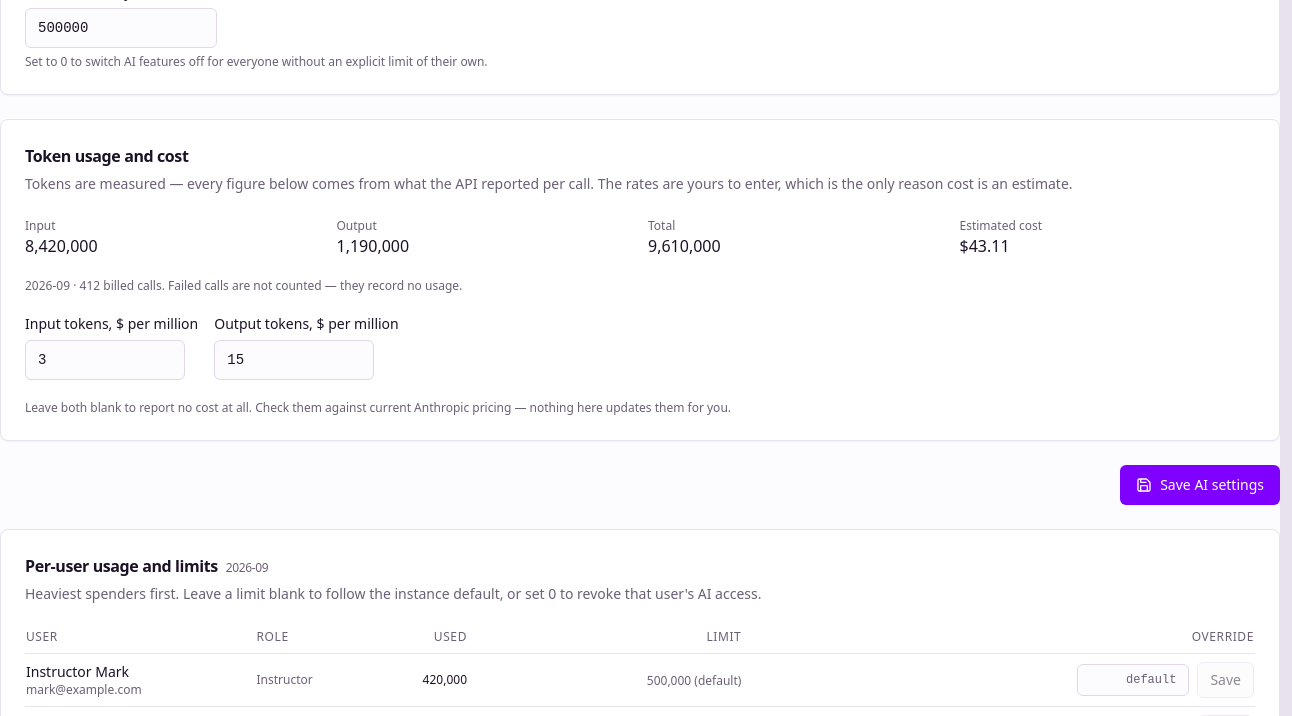
it: AiSettingsTab token usage and cost › rejects a non-numeric rate before sending it
This screenshot has width=1292, height=716.
(page scrolled)
Replace the text in the field labelled "Input tokens, $ per million" with "free" at coordinates (105, 360), box [25, 340, 185, 380]
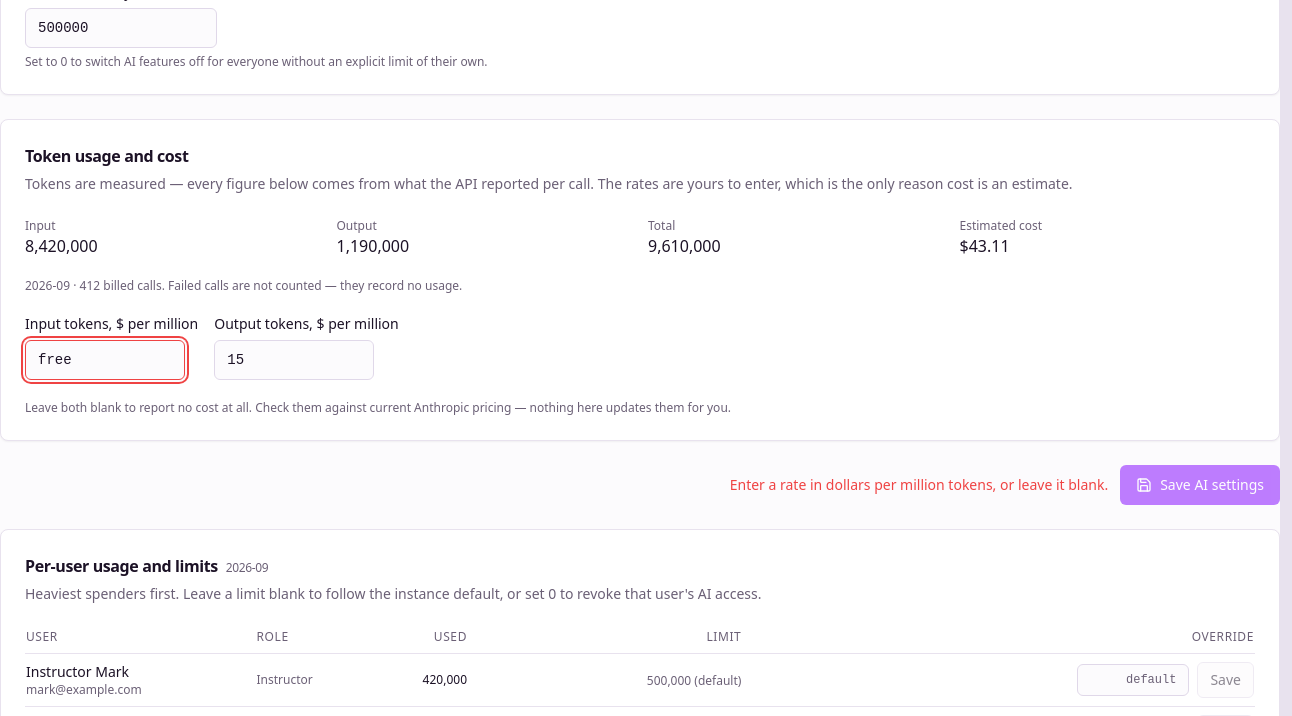
Check: the button "Save AI settings" is disabled, box [1120, 465, 1280, 505]
